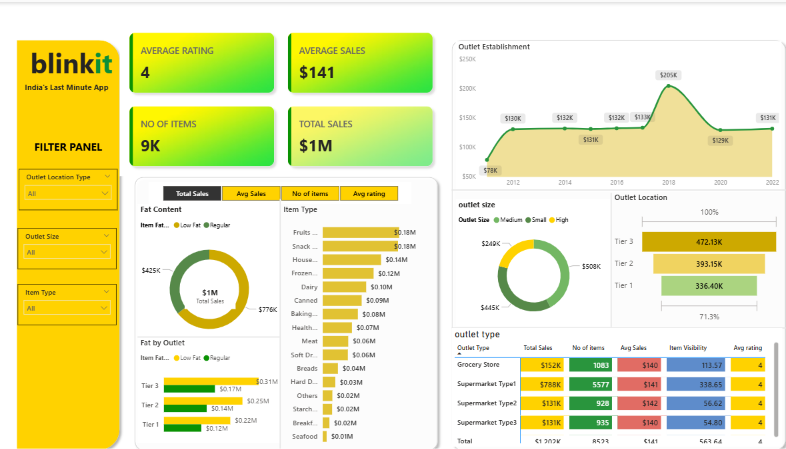

The dashboard page shown, as its layout file describes it:
{"tool":"powerbi","page":{"name":"Page 1","canvas":[1400,800],"ordinal":0},"visuals":[{"type":"shape","box":[23,58.3,199.7,742.3],"z":0},{"type":"textbox","box":[33.6,68.9,197.9,67.2],"z":1000},{"type":"textbox","box":[31.8,136.1,176.7,33.6],"z":2000},{"type":"cardVisual","fields":{"Data":["Blinkit.Avg rating","Blinkit.Avg Sales","Blinkit.No of items","Blinkit.Total Sales"]},"box":[213.8,37.1,570.9,270.4],"z":3000},{"type":"shape","box":[231.5,300.4,553.2,500.2],"z":4000},{"type":"donutChart","title":"Fat Content","fields":{"Y":["Blinkit.Total Sales"],"Category":["Blinkit.Item Fat Content"]},"box":[245.7,357,252.7,256.3],"z":5000},{"type":"slicer","fields":{"Values":["Metrics.Metrics"]},"box":[265.1,318.1,464.8,38.9],"z":6000},{"type":"cardVisual","fields":{"Data":["Blinkit.Total Sales"]},"box":[328.7,486,90.1,56.6],"z":7000},{"type":"clusteredBarChart","title":"Fat by Outlet ","fields":{"Y":["Blinkit.Total Sales"],"Category":["Blinkit.Outlet Location Type"],"Series":["Blinkit.Item Fat Content"]},"box":[245.7,592.1,252.7,187.3],"z":8000},{"type":"shape","box":[245.7,570.9,251,42.4],"z":9000},{"type":"shape","box":[473.6,348.2,47.7,443.6],"z":10000},{"type":"barChart","title":" Item Type","fields":{"Y":["Blinkit.Total Sales"],"Category":["Blinkit.Item Type"]},"box":[498.4,357,243.9,434.8],"z":11000},{"type":"shape","box":[791.8,58.3,608,742.3],"z":12000},{"type":"lineChart","title":"Outlet Establishment ","fields":{"Y":["Blinkit.Total Sales"],"Category":["Blinkit.Outlet Establishment Year"]},"box":[807.7,68.9,576.2,266.9],"z":13000},{"type":"donutChart","title":"outlet size","fields":{"Y":["Blinkit.Total Sales"],"Category":["Blinkit.Outlet Size"]},"box":[807.7,348.2,275,225],"z":14000},{"type":"shape","box":[1058.6,337.6,47.7,236.8],"z":15000},{"type":"funnel","title":"Outlet Location","fields":{"Y":["Sum(Blinkit.Sales)"],"Category":["Blinkit.Outlet Location Type"]},"box":[1083.4,335.8,300.4,235.1],"z":16000},{"type":"shape","box":[800.6,551.4,599.1,49.5],"z":17000},{"type":"shape","box":[800.6,307.5,599.1,49.5],"z":18000},{"type":"pivotTable","title":"outlet type","fields":{"Rows":["Blinkit.Outlet Type"],"Values":["Blinkit.Total Sales","Blinkit.No of items","Blinkit.Avg Sales","Sum(Blinkit.Item Visibility)","Blinkit.Avg rating"]},"box":[800.6,576.2,583.2,208.5],"z":19000},{"type":"slicer","fields":{"Values":["Blinkit.Outlet Location Type"]},"box":[35.3,295.1,175,72.5],"z":20000},{"type":"slicer","fields":{"Values":["Blinkit.Outlet Size"]},"box":[33.6,399.4,175,72.5],"z":21000},{"type":"slicer","fields":{"Values":["Blinkit.Item Type"]},"box":[33.6,498.4,175,72.5],"z":22000},{"type":"textbox","box":[40.6,236.8,164.4,37.1],"z":23000}]}

Visuals, with their boxes in screenshot pixels (x1, y1, x2, y2), scaled from the page's 1400x800 canvas onto the 786x449 screenshot:
shape: (left=13, top=33, right=125, bottom=448)
textbox: (left=19, top=39, right=130, bottom=76)
textbox: (left=18, top=76, right=117, bottom=95)
cardVisual - Blinkit.Avg rating x Blinkit.Avg Sales: (left=120, top=21, right=441, bottom=173)
shape: (left=130, top=169, right=441, bottom=448)
"Fat Content" donutChart: (left=138, top=200, right=280, bottom=344)
slicer - Metrics.Metrics: (left=149, top=179, right=410, bottom=200)
cardVisual - Blinkit.Total Sales: (left=185, top=273, right=235, bottom=305)
"Fat by Outlet " clusteredBarChart: (left=138, top=332, right=280, bottom=437)
shape: (left=138, top=320, right=279, bottom=344)
shape: (left=266, top=195, right=293, bottom=444)
" Item Type" barChart: (left=280, top=200, right=417, bottom=444)
shape: (left=445, top=33, right=785, bottom=448)
"Outlet Establishment " lineChart: (left=453, top=39, right=777, bottom=188)
"outlet size" donutChart: (left=453, top=195, right=608, bottom=322)
shape: (left=594, top=189, right=621, bottom=322)
"Outlet Location" funnel: (left=608, top=188, right=777, bottom=320)
shape: (left=449, top=309, right=785, bottom=337)
shape: (left=449, top=173, right=785, bottom=200)
"outlet type" pivotTable: (left=449, top=323, right=777, bottom=440)
slicer - Blinkit.Outlet Location Type: (left=20, top=166, right=118, bottom=206)
slicer - Blinkit.Outlet Size: (left=19, top=224, right=117, bottom=265)
slicer - Blinkit.Item Type: (left=19, top=280, right=117, bottom=320)
textbox: (left=23, top=133, right=115, bottom=154)
